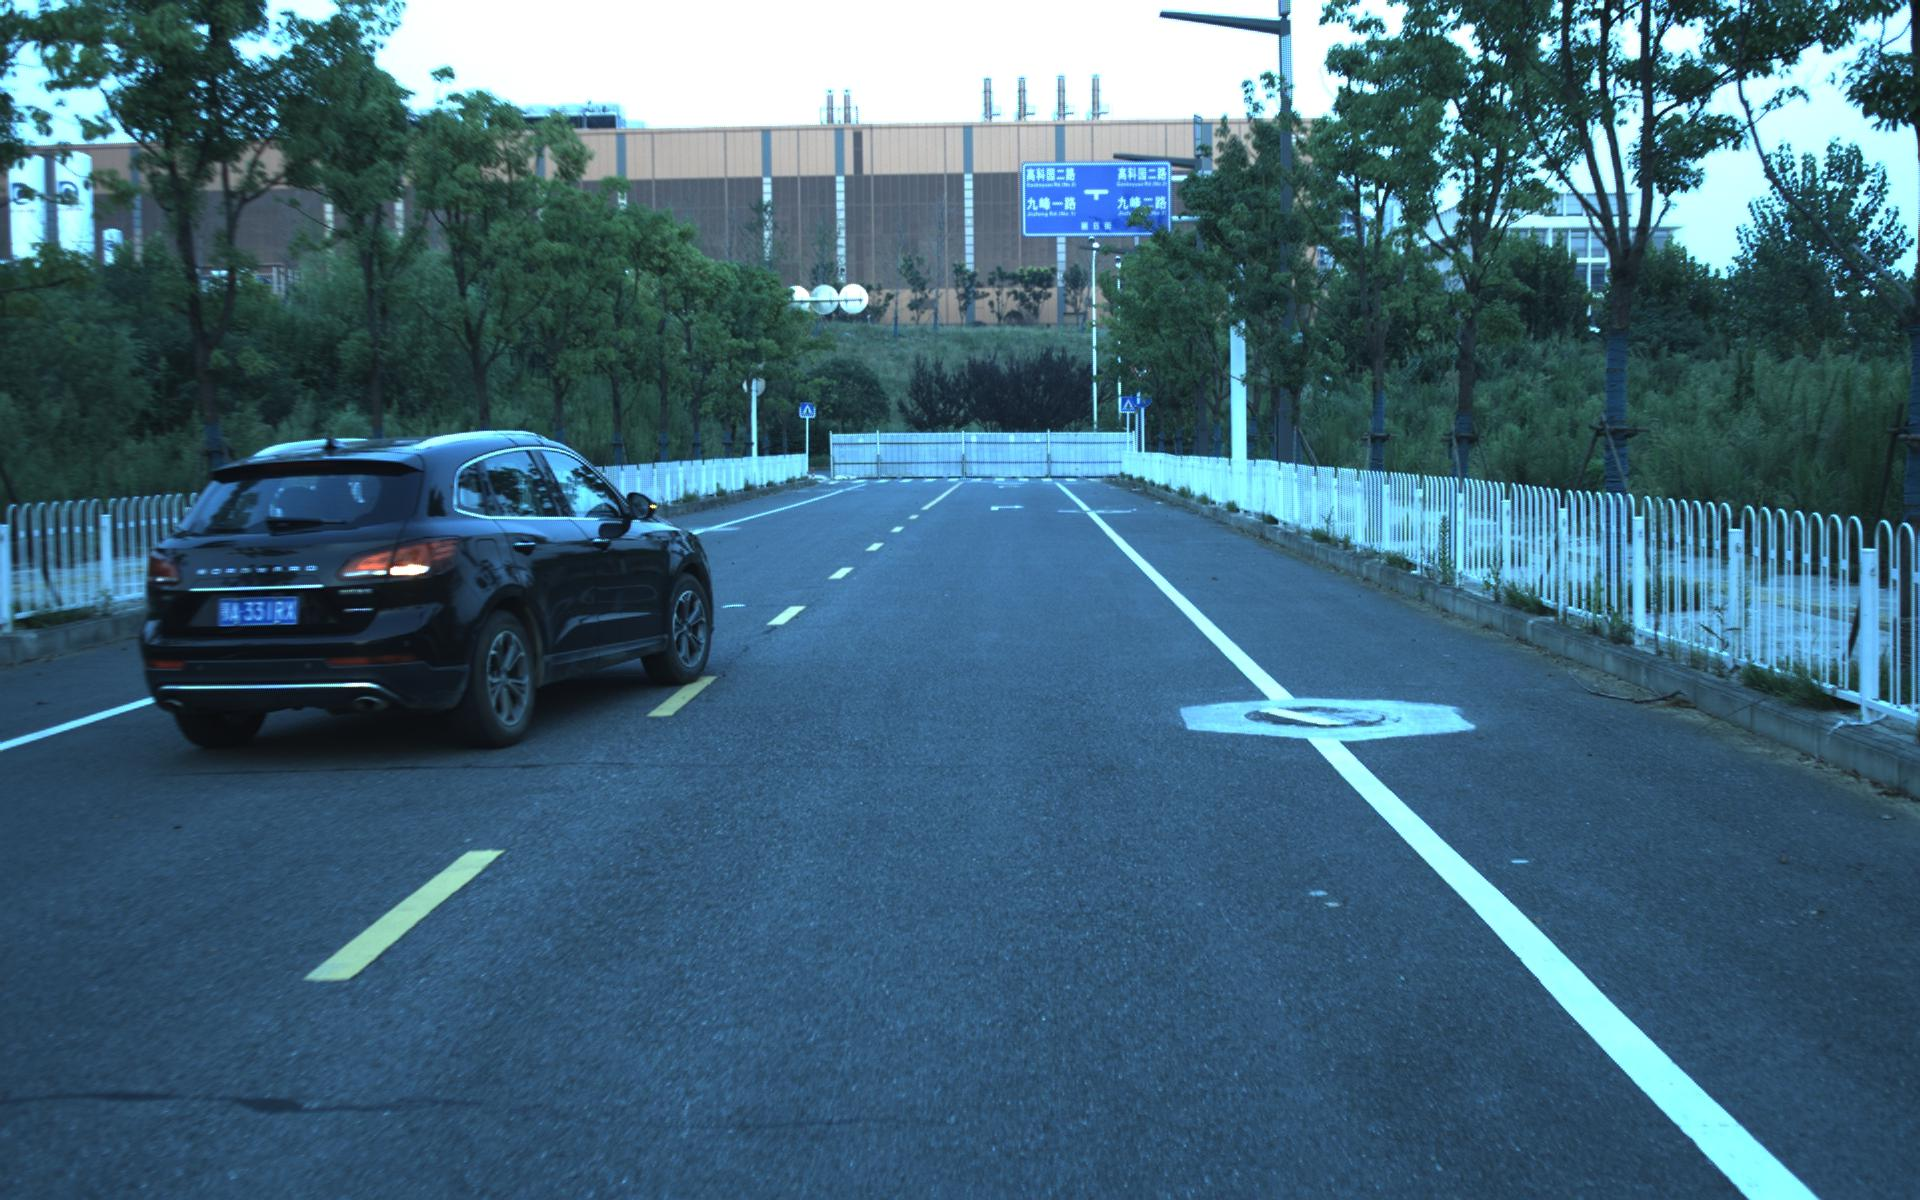Car: (117, 415, 715, 758)
